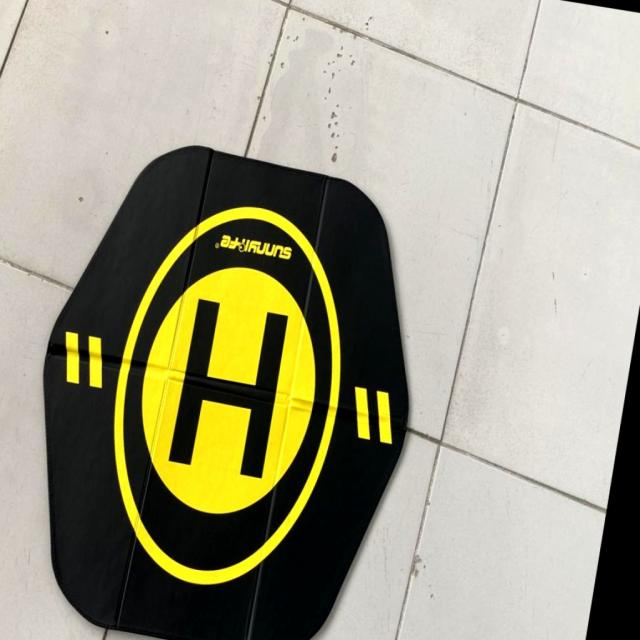helipad: (110, 202, 346, 596)
